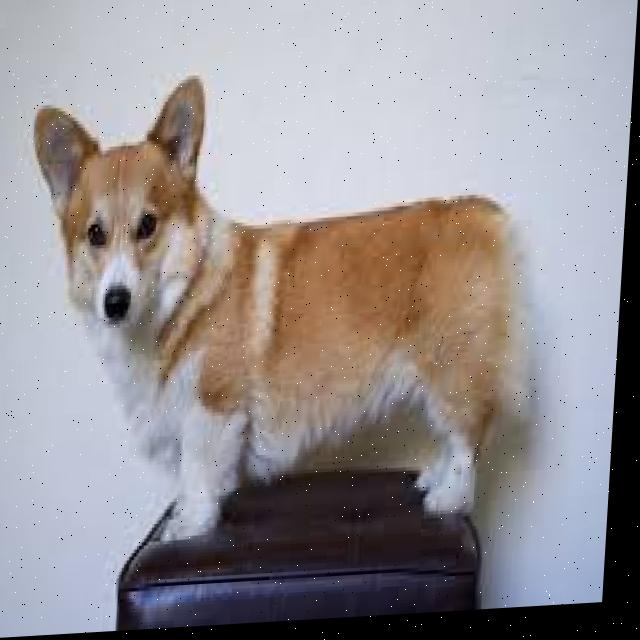CORGI: (15, 27, 536, 564)
